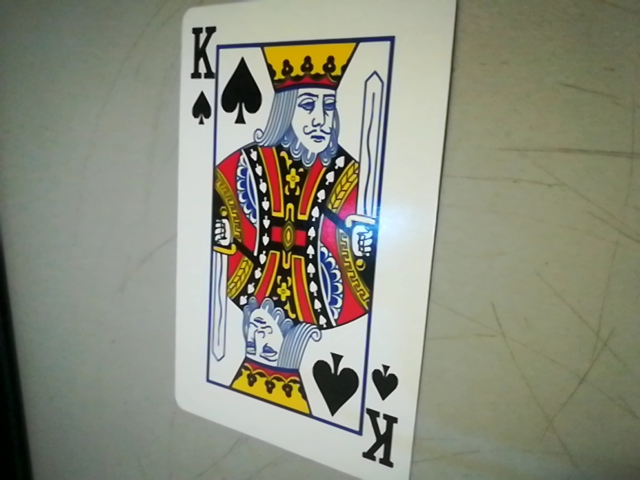ht k: (357, 356, 411, 478)
